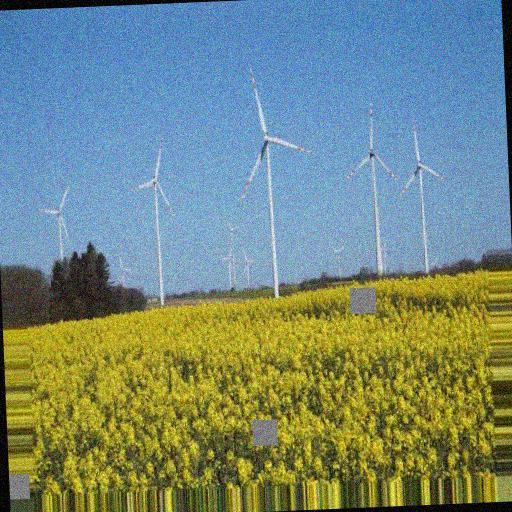wind turbine: (241, 65, 317, 292), (344, 101, 398, 279), (128, 145, 176, 307), (399, 123, 449, 272), (37, 186, 71, 260)
